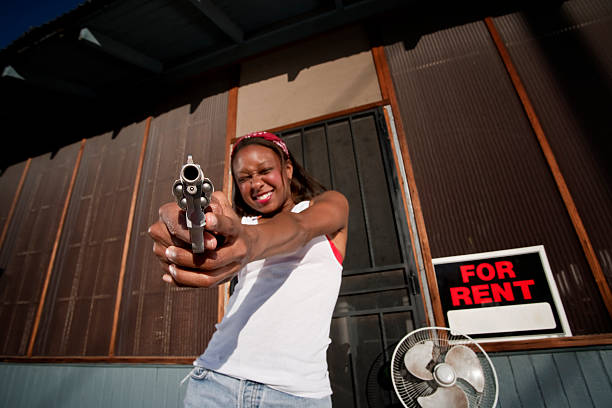gun: (171, 155, 214, 262)
